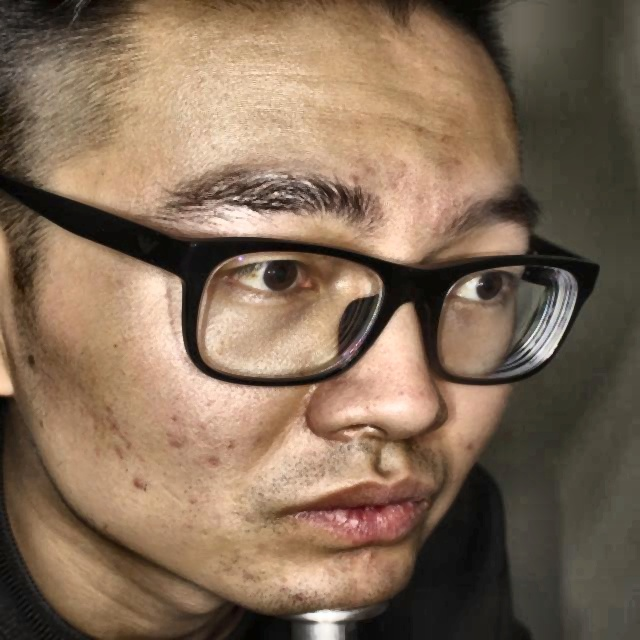comedone: (131, 473, 152, 502), (457, 438, 481, 462)
